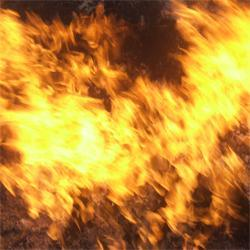fire: (24, 101, 125, 179), (207, 21, 250, 107)
